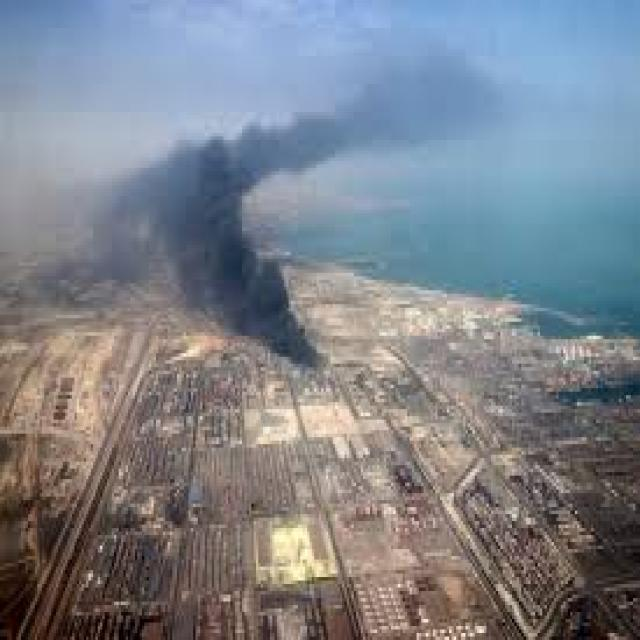explosion: (138, 149, 380, 408)
